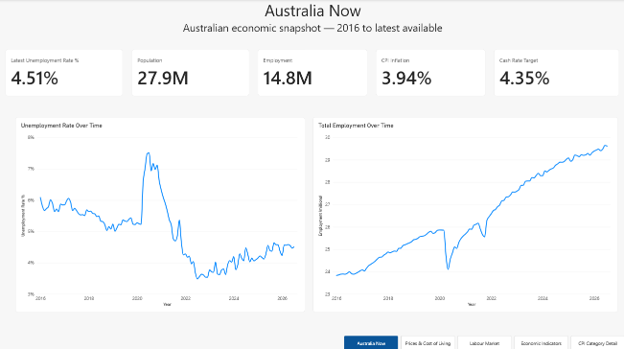

What the dashboard file says about the page in this screenshot:
{"tool":"powerbi","page":{"name":"Australia Now","canvas":[1920,1080],"ordinal":0},"visuals":[{"type":"textbox","box":[24,0,1872,144],"z":0},{"type":"cardVisual","fields":{"Data":["Labour Force.Latest Unemployment Rate %"]},"box":[17.4,152.2,360,144],"z":1000},{"type":"cardVisual","fields":{"Data":["Population.Population (M)"]},"box":[404.3,152.2,360,144],"z":2000},{"type":"cardVisual","fields":{"Data":["Labour Force.Latest Employment (M)"]},"box":[791.1,152.2,336,144],"z":3000},{"type":"cardVisual","fields":{"Data":["CPI_from2016.Latest CPI YoY %"]},"box":[1154,152.2,336,144],"z":4000},{"type":"cardVisual","fields":{"Data":["Cash Rate.Cash Rate Target"]},"box":[1516.9,152.2,384,144],"z":5000},{"type":"lineChart","title":"Unemployment Rate Over Time","fields":{"Category":["DimDate.Date"],"Y":["Labour Force.Unemployment Rate %"]},"box":[48,360,888,600],"z":6000},{"type":"lineChart","title":"Total Employment Over Time","fields":{"Category":["DimDate.Date"],"Y":["Labour Force.Employment (M)"]},"box":[960,360,936,600],"z":7000},{"type":"pageNavigator","box":[1056,1032,864,48],"z":8000}]}

Visuals, with their boxes in screenshot pixels (x1, y1, x2, y2), scaled from the page's 1920x1080 canvas onto the 624x349 screenshot:
textbox: <region>8, 0, 616, 47</region>
cardVisual - Labour Force.Latest Unemployment Rate %: <region>6, 49, 123, 96</region>
cardVisual - Population.Population (M): <region>131, 49, 248, 96</region>
cardVisual - Labour Force.Latest Employment (M): <region>257, 49, 366, 96</region>
cardVisual - CPI_from2016.Latest CPI YoY %: <region>375, 49, 484, 96</region>
cardVisual - Cash Rate.Cash Rate Target: <region>493, 49, 618, 96</region>
"Unemployment Rate Over Time" lineChart: <region>16, 116, 304, 310</region>
"Total Employment Over Time" lineChart: <region>312, 116, 616, 310</region>
pageNavigator: <region>343, 333, 623, 348</region>
